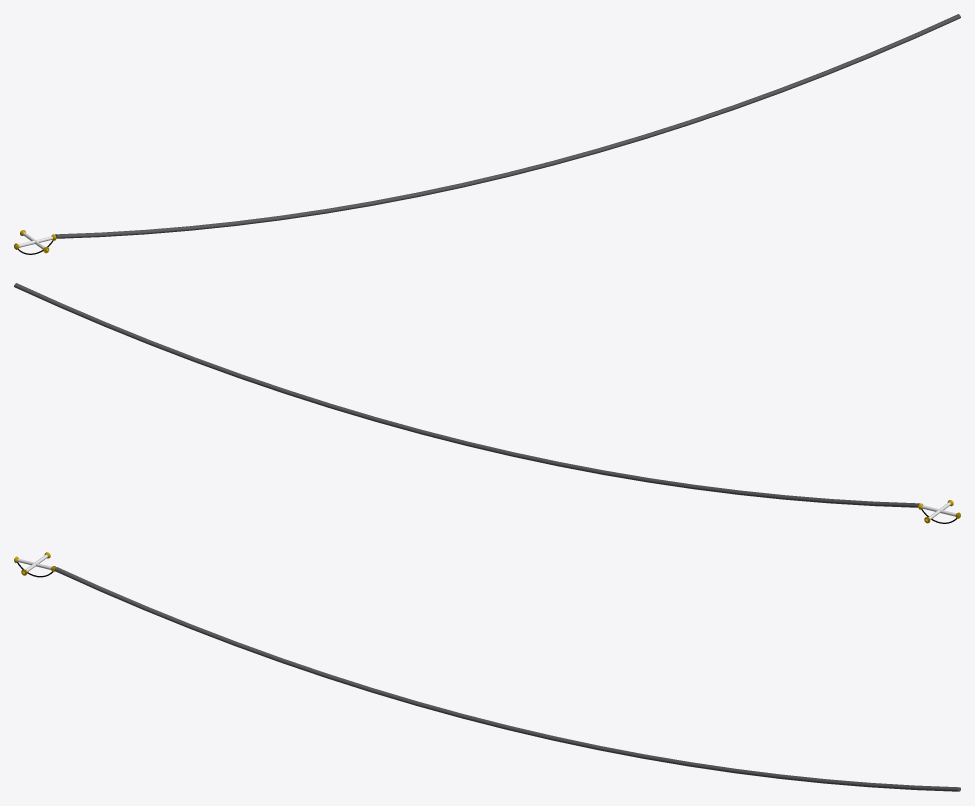
Rendered from Wire.fbx.
The picture shows the model from 3 angles, top to bottom: view 1: azimuth 30°, elevation 25°; view 2: azimuth 150°, elevation 25°; view 3: azimuth 330°, elevation 25°; orthographic projection.
Parts seen in each view (by area): view 1: CABLES_03; view 2: CABLES_03; view 3: CABLES_03.
Part boxes in pixels (left/top/right/bottom): CABLES_03: left=55, top=14, right=960, bottom=238; CABLES_03: left=14, top=283, right=919, bottom=507; CABLES_03: left=54, top=567, right=960, bottom=791.
Size of the model in its own units: 28.78 by 1.54 by 1.42.
